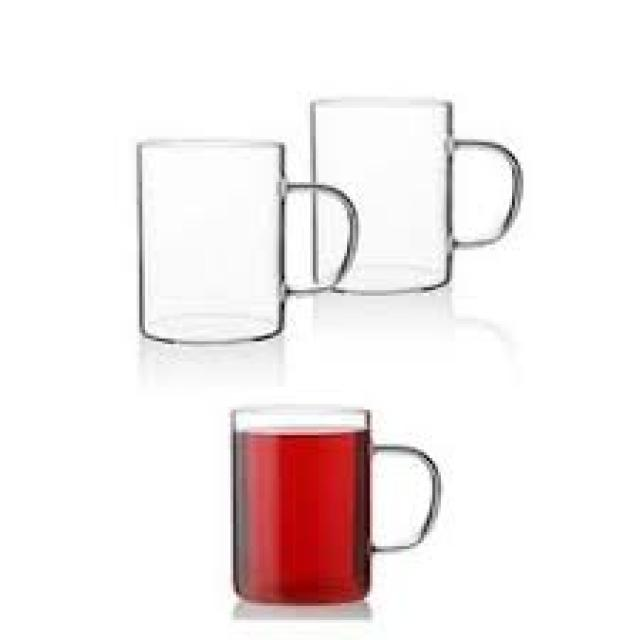Dry: (126, 129, 365, 350), (224, 401, 446, 613)
